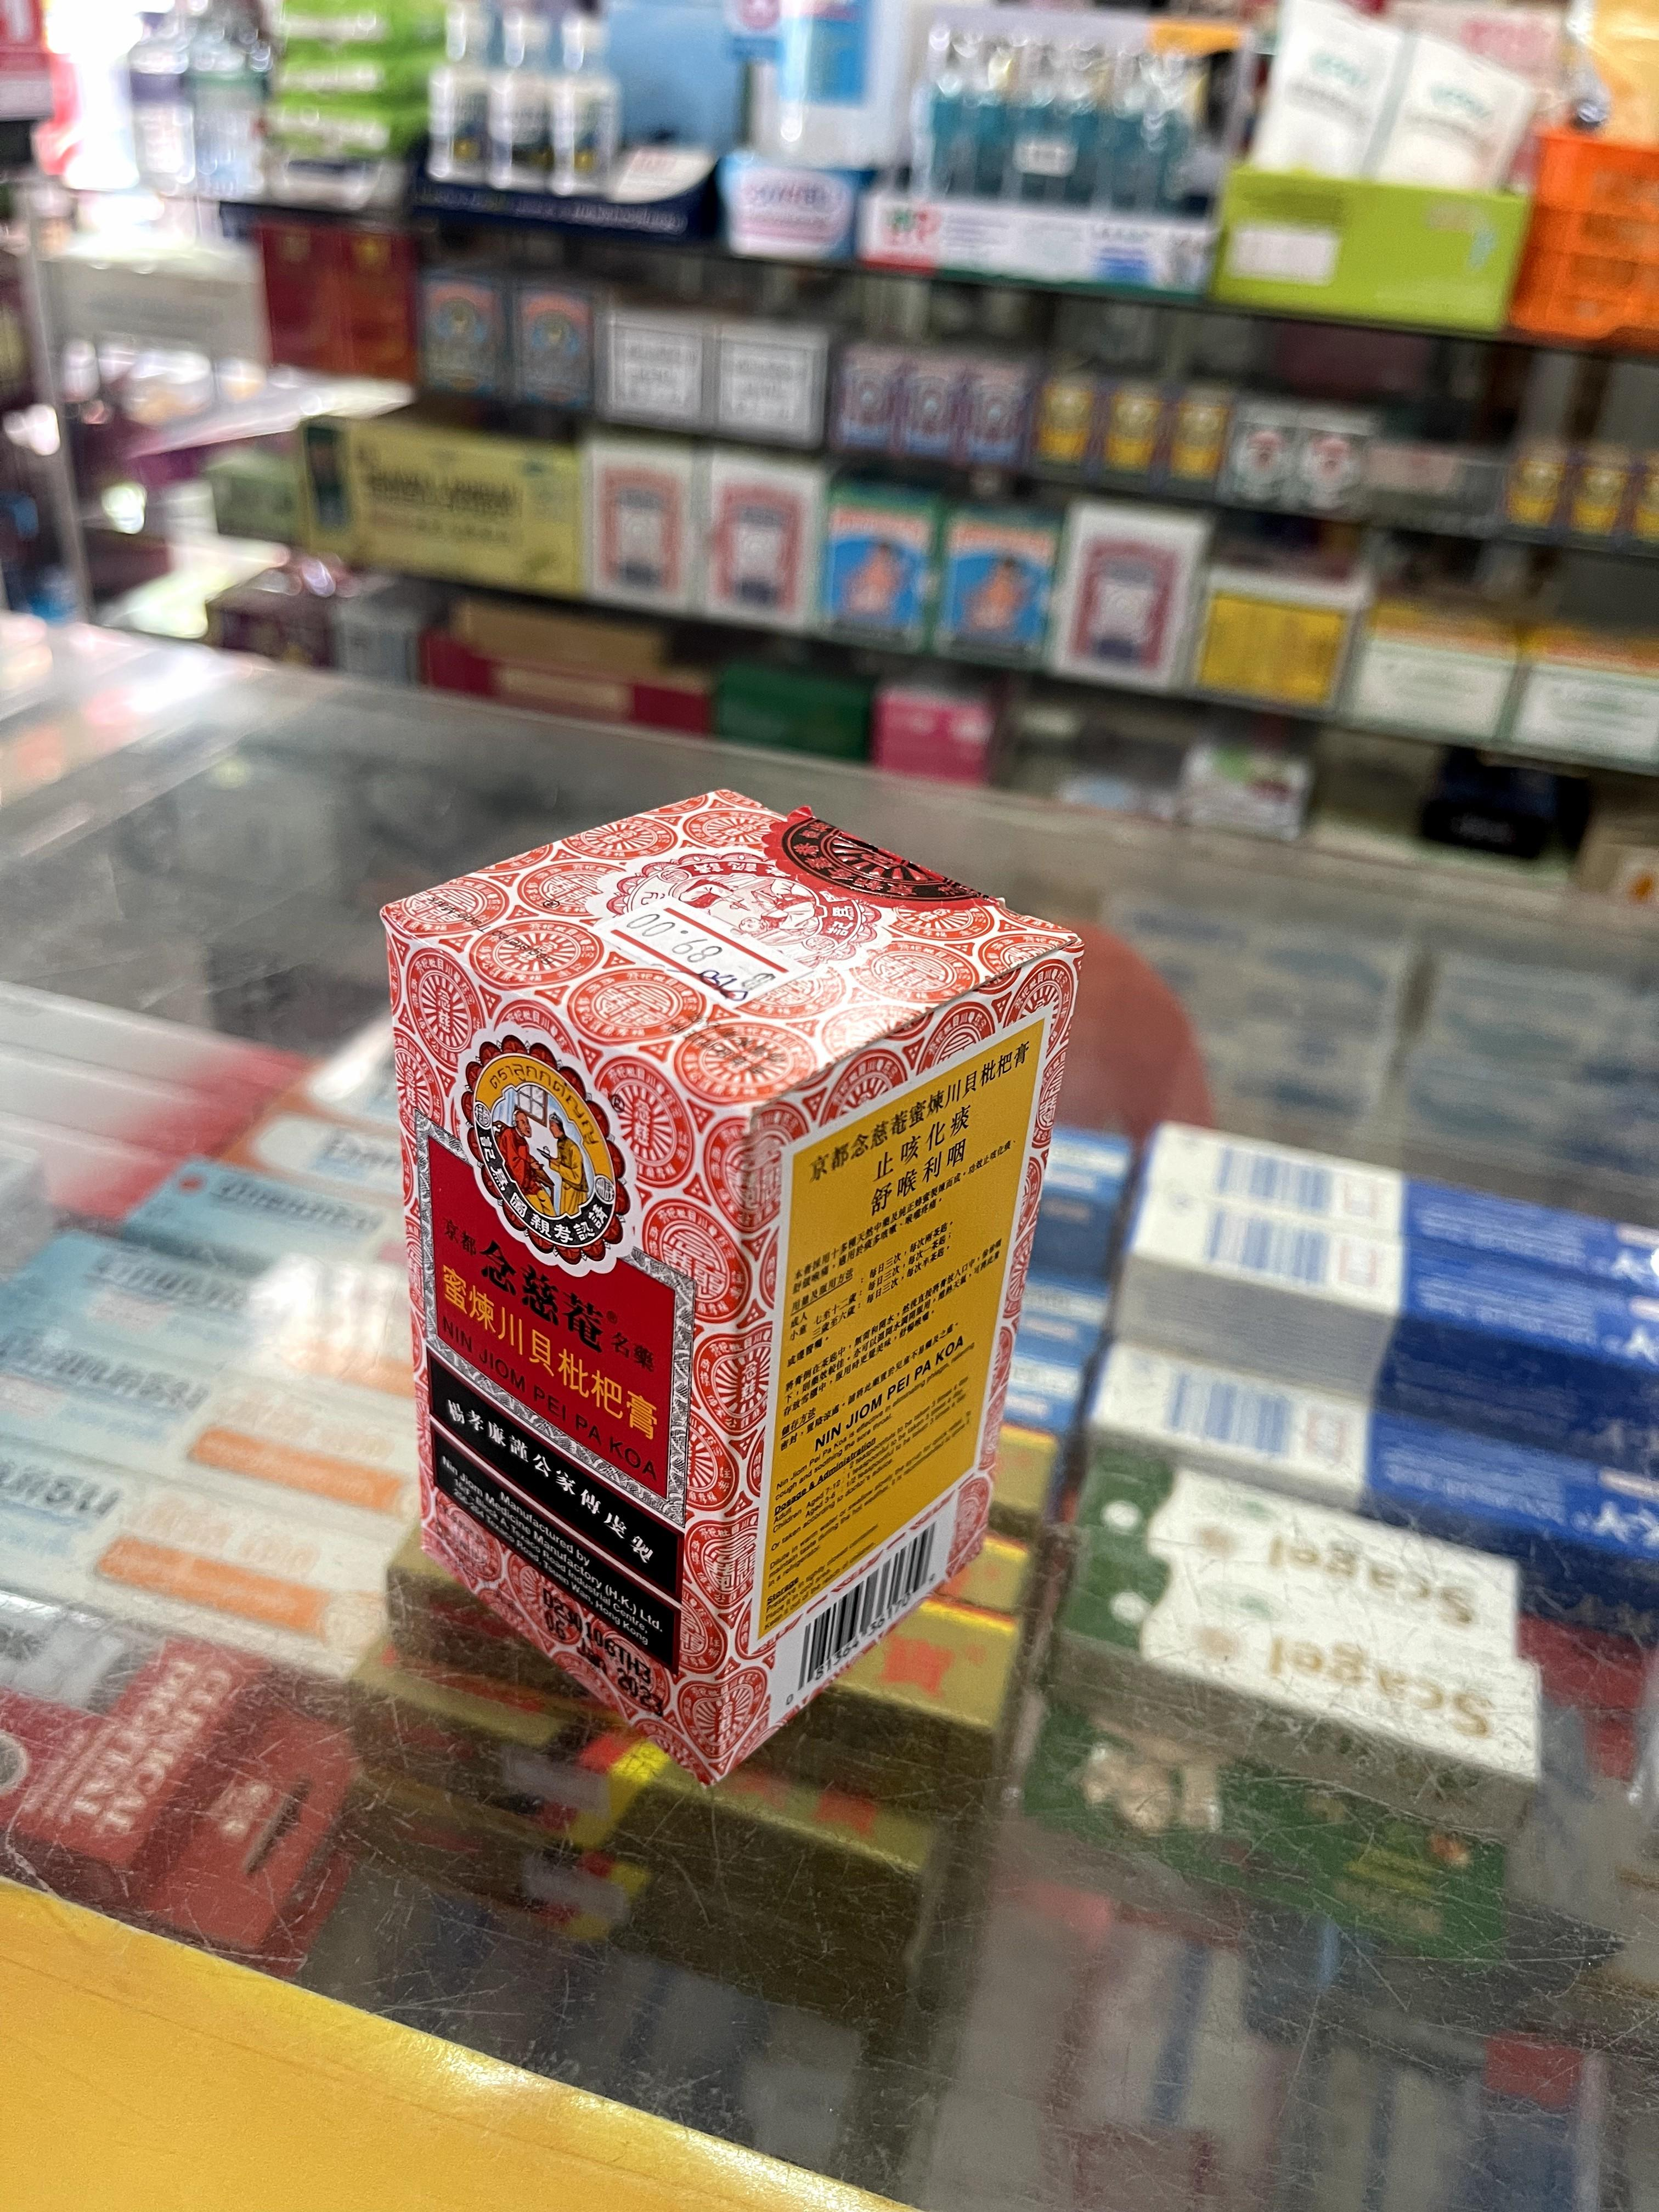Pei-Pa-Koa: (387, 792, 1075, 1766)
